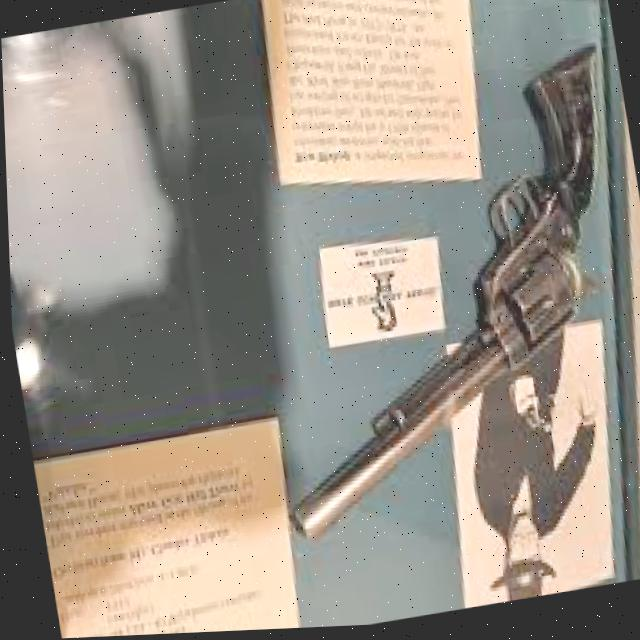pistol: (225, 47, 640, 546)
